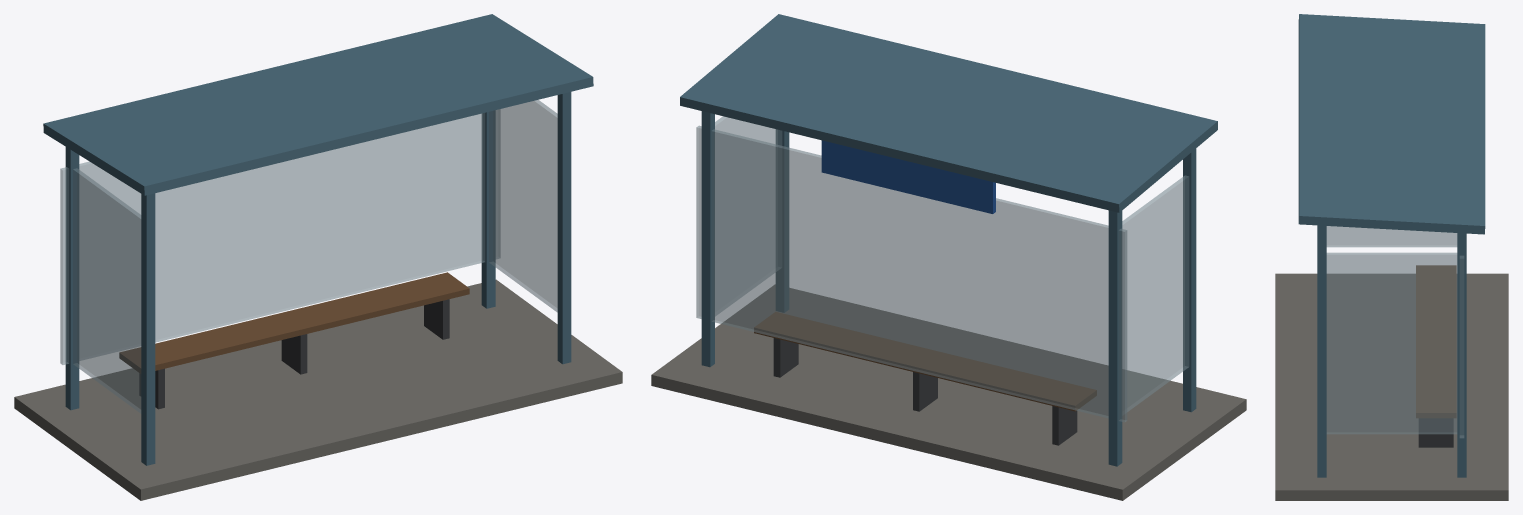
File: bus_stop.glb
3 views of the same model, side by side, from view 1: azimuth 30°, elevation 25°; view 2: azimuth 150°, elevation 25°; view 3: azimuth 270°, elevation 25° (orthographic). The views are drawn at different scales.
Visible parts, largest first — view 1: BusStop; view 2: BusStop; view 3: BusStop.
Part boxes in pixels (left/top/right/bottom): BusStop: left=14, top=14, right=622, bottom=500; BusStop: left=651, top=14, right=1246, bottom=500; BusStop: left=1275, top=14, right=1508, bottom=500.
Size of the model in its own units: 4.4 by 2.63 by 2.
